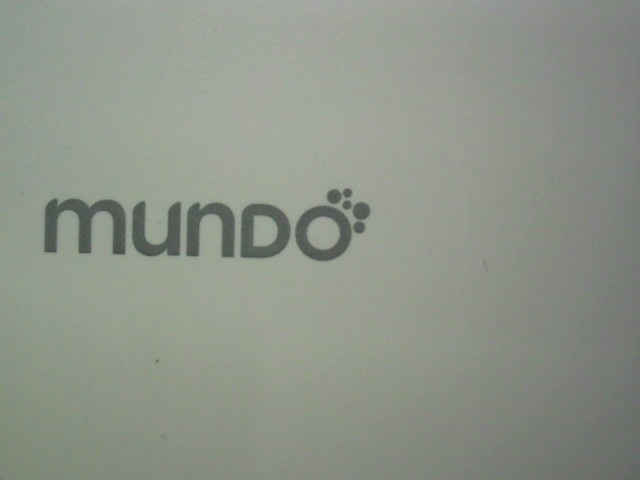BI_MUNDO: (31, 177, 385, 272)
